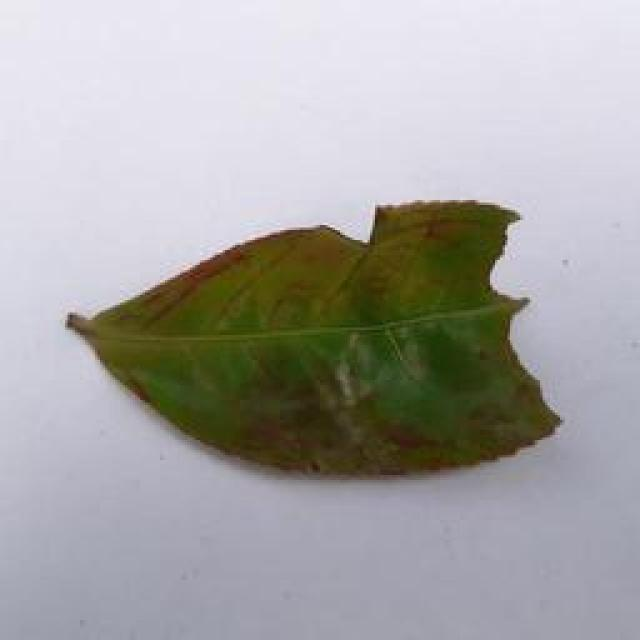Red Leaf Spot: (47, 193, 566, 482)
